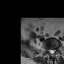CCS_normal: (51, 47, 53, 55)
LFS_severe_stenosis: (55, 46, 57, 52)
LLS_normal: (53, 48, 55, 54)
RFS_stenosis: (47, 47, 49, 52)
RLS_normal: (49, 47, 51, 54)
